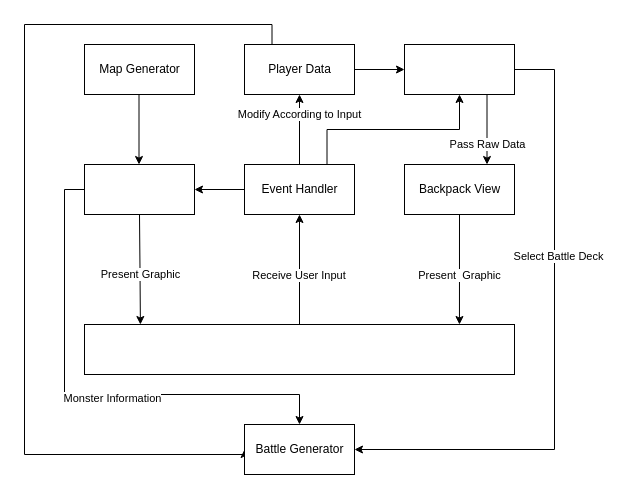
Image size: 620x492. Some labels were removed from this diagram. The centre of each missing label's shape, as x and y in pixels:
"DungeonScreen" belongs at pixel 299 349.
"Map Data" belongs at pixel 139 189.
"Resource Data" belongs at pixel 459 69.
